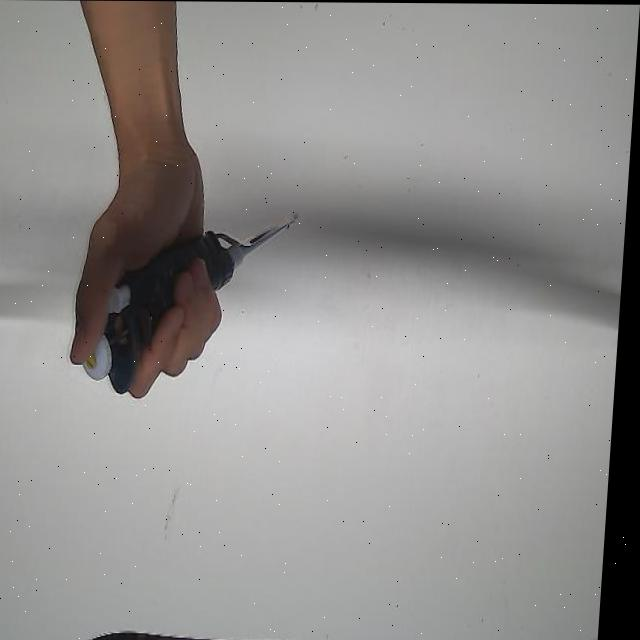Single Channel Pipettor: (83, 208, 307, 402)
